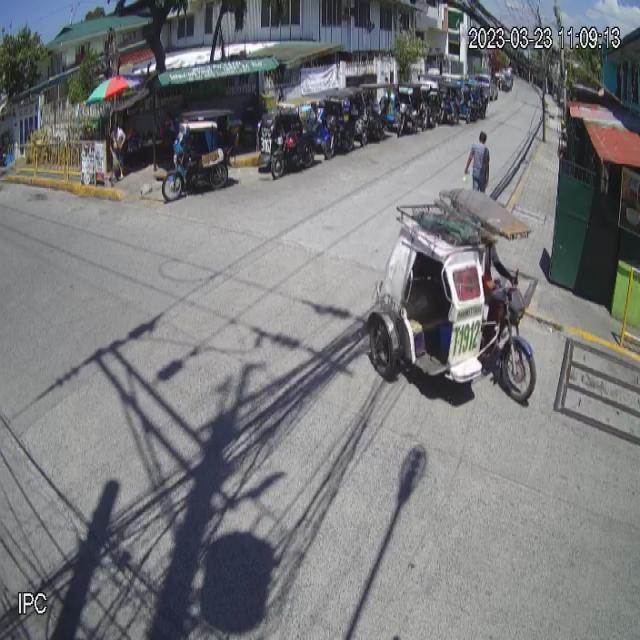Tricycle: (364, 188, 536, 404), (161, 108, 236, 202)
